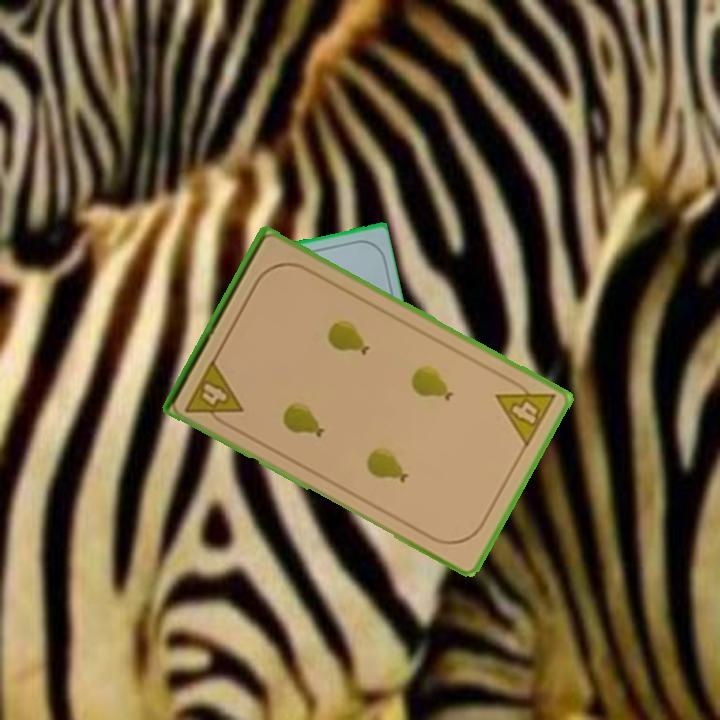4p: (492, 372, 559, 450), (181, 355, 246, 432)
